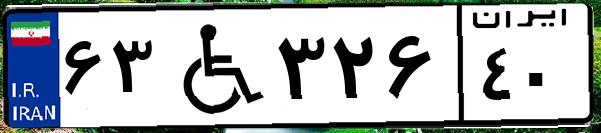0: (525, 38, 570, 115)
2: (330, 28, 385, 110)
3: (270, 28, 330, 110), (110, 28, 158, 98)
4: (475, 38, 525, 113)
6: (385, 28, 445, 110), (57, 26, 110, 100)
ژ (معلولین و جانبازان): (158, 12, 270, 120)
